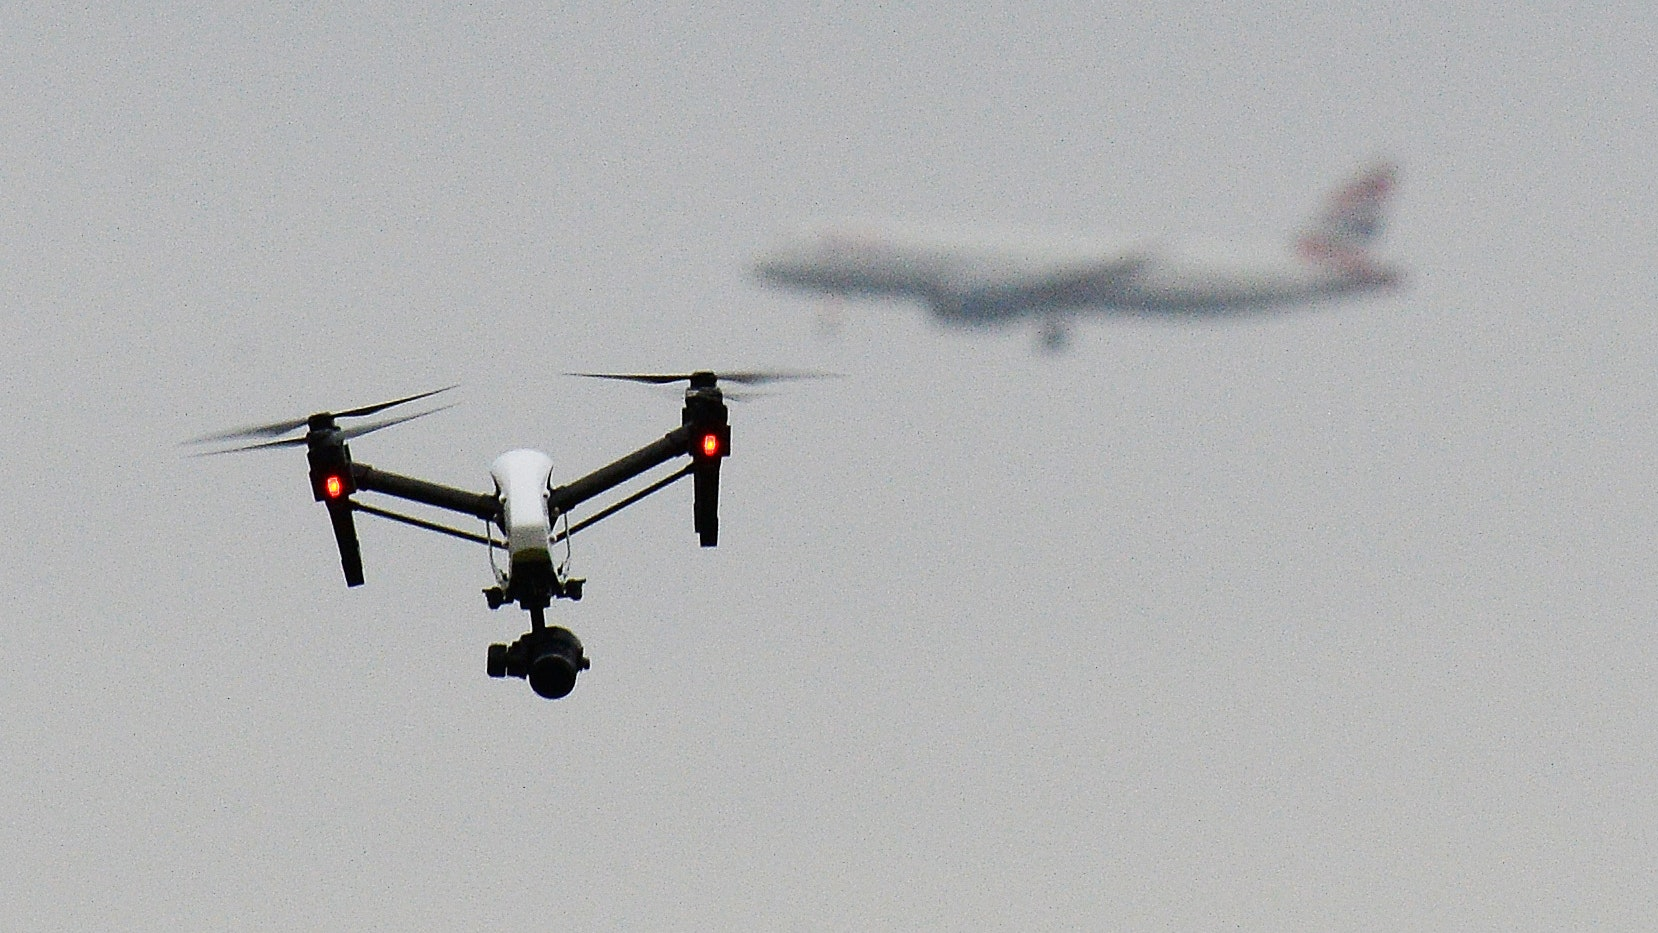drone: (165, 354, 865, 707)
